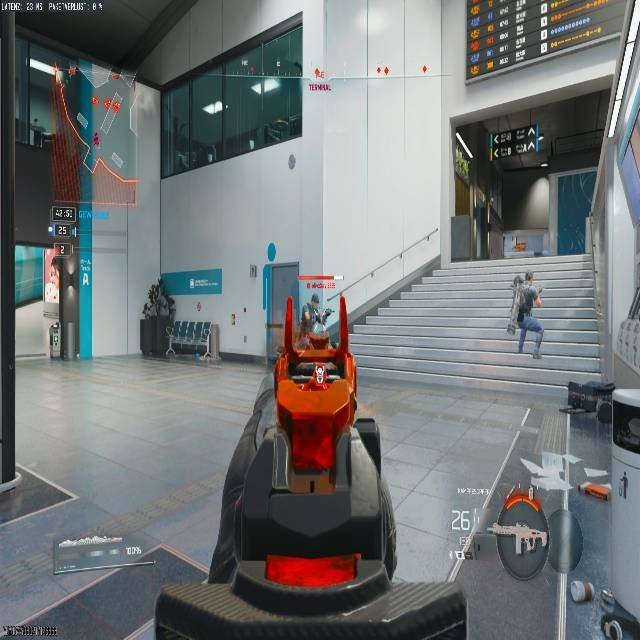head: (523, 271, 534, 284), (310, 294, 319, 306)
player: (510, 271, 544, 360), (300, 294, 332, 345)
